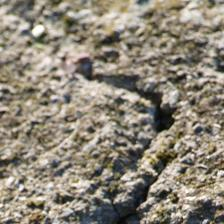Crack: (78, 61, 182, 137)
